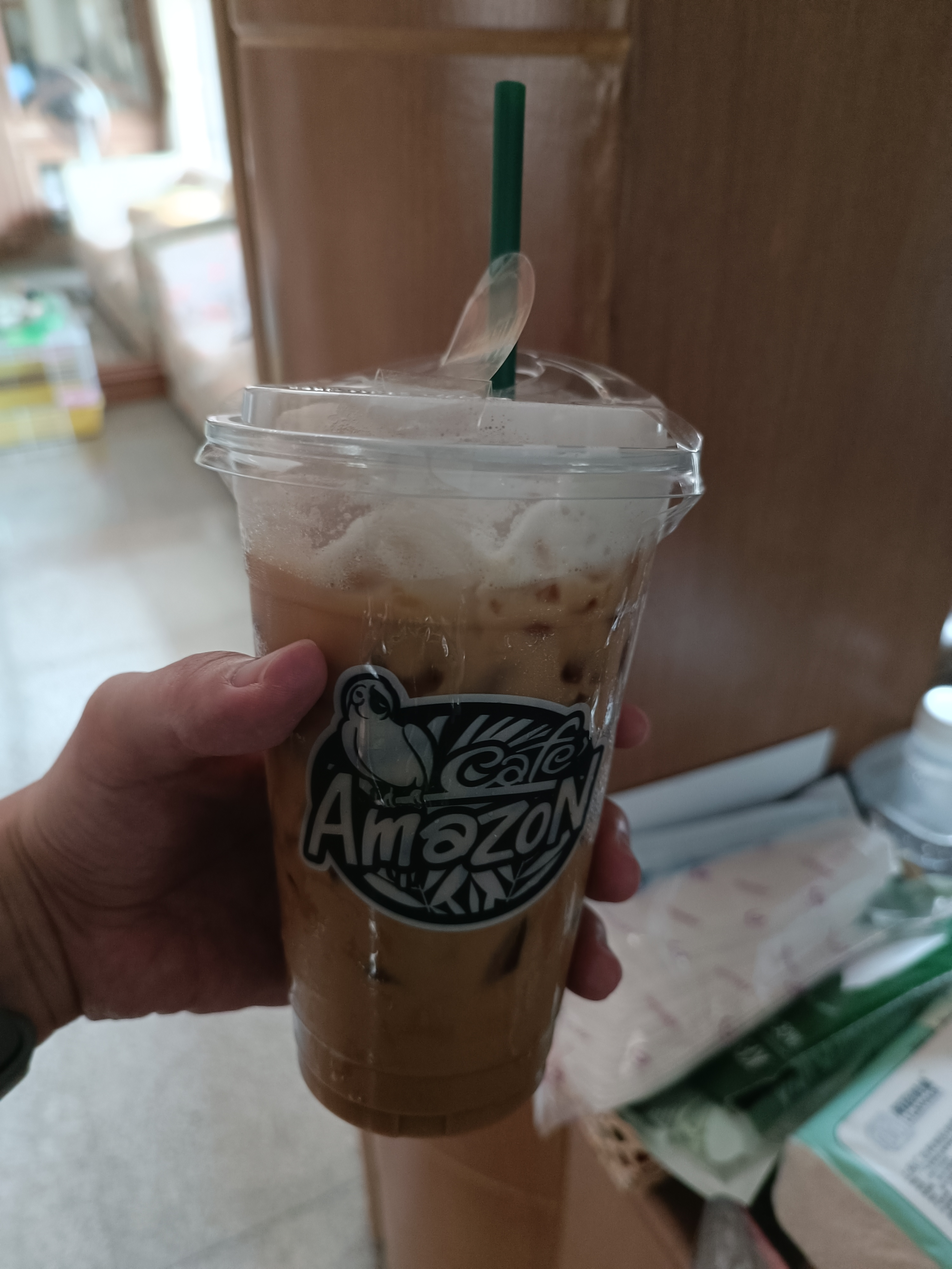plastic: (195, 60, 716, 1139)
